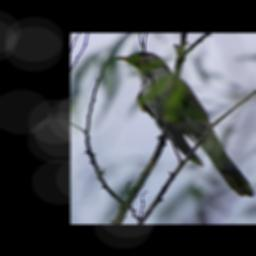Cuckoo: (115, 50, 256, 199)
